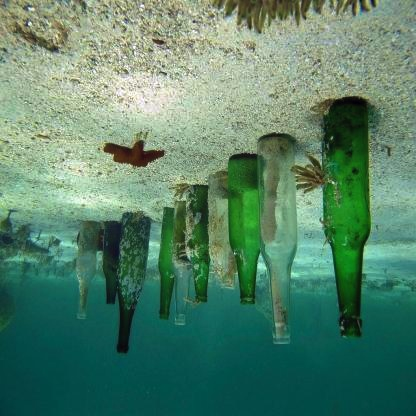gbottle: (322, 98, 371, 338), (257, 138, 298, 344), (227, 155, 263, 306), (115, 214, 148, 355), (209, 172, 237, 288), (186, 185, 212, 304), (171, 202, 194, 325), (157, 206, 177, 320), (76, 220, 98, 321), (103, 220, 120, 306)
